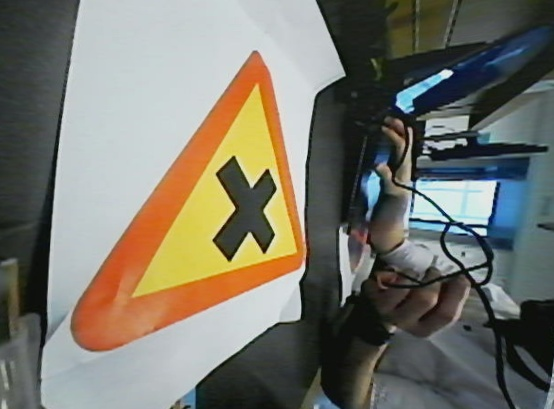junction: (70, 50, 310, 359)
